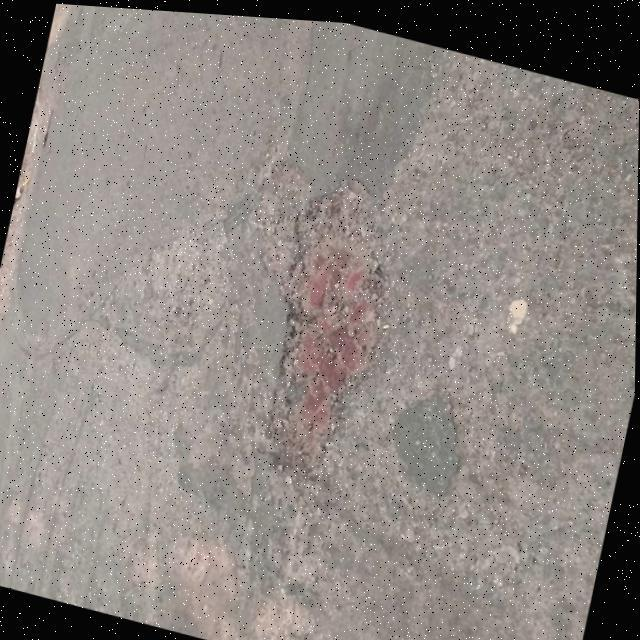pothole: (247, 160, 415, 467)
